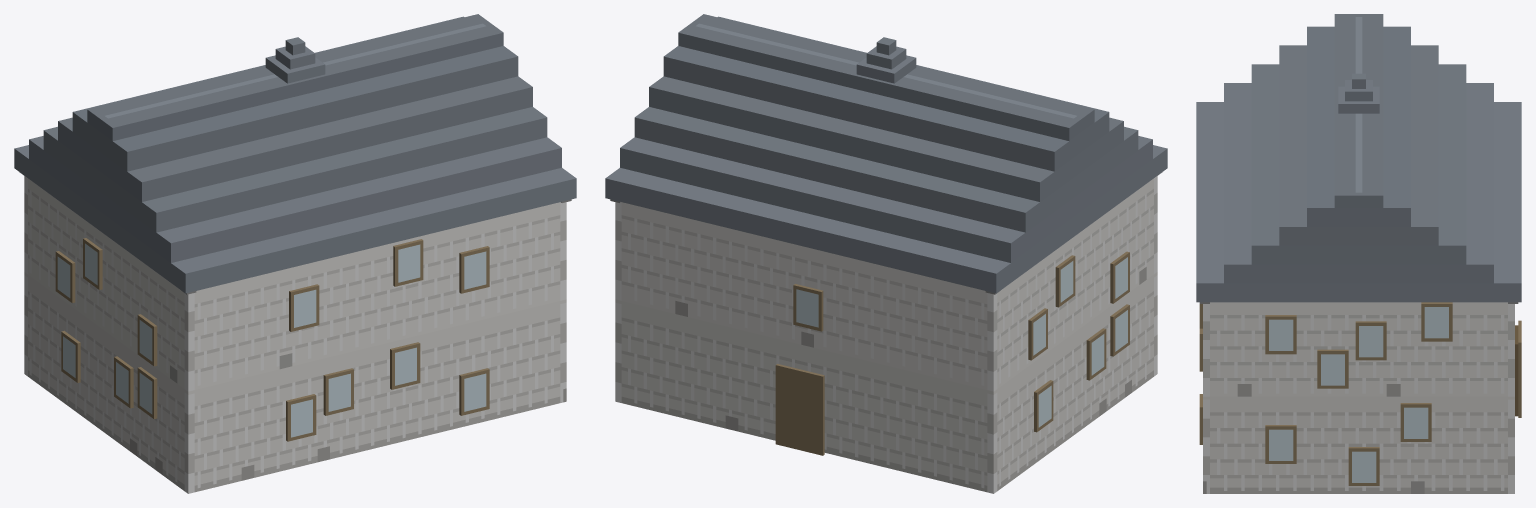
File: templo_02.glb
The picture shows the model from 3 angles, left to right: view 1: azimuth 30°, elevation 25°; view 2: azimuth 150°, elevation 25°; view 3: azimuth 270°, elevation 25°; orthographic projection. The views are drawn at different scales.
Parts seen in each view (by area): view 1: templo_02; view 2: templo_02; view 3: templo_02.
Boxes of the visible parts, bbox=[...] form: templo_02: bbox=[14, 14, 576, 493]; templo_02: bbox=[605, 14, 1167, 493]; templo_02: bbox=[1196, 14, 1521, 493].
Bounding box in the file's own units: 12.4 × 10.5 × 9.4.
